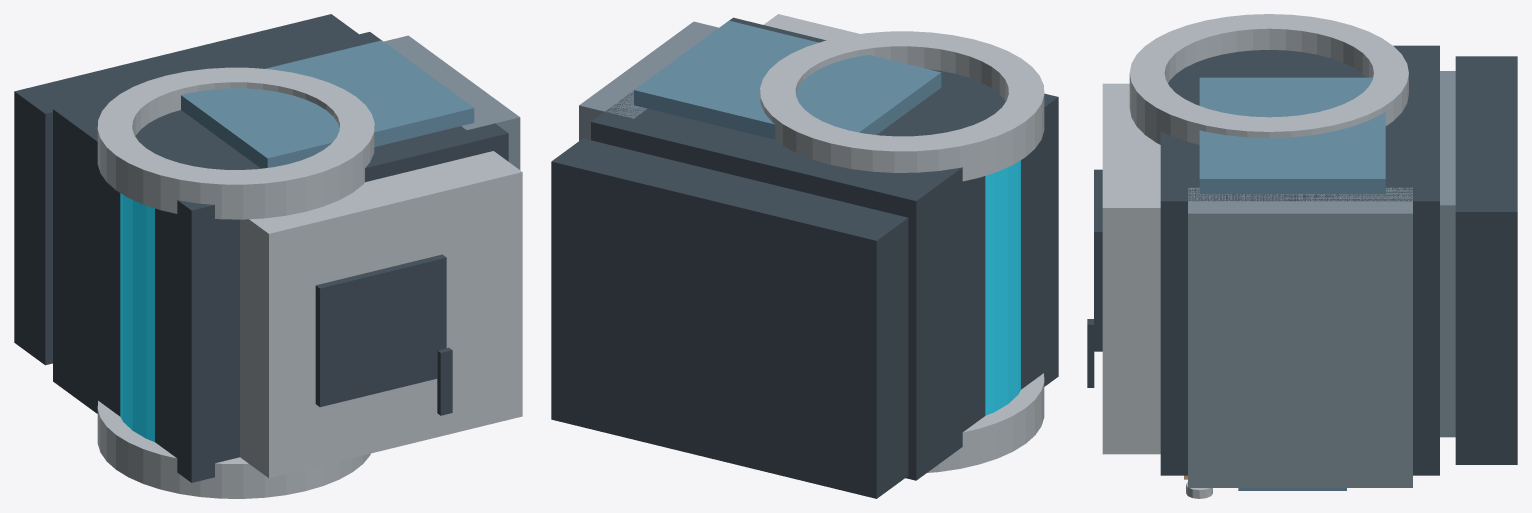
The model's file is shield1.glb.
3 views of the same model, side by side, from view 1: azimuth 30°, elevation 25°; view 2: azimuth 150°, elevation 25°; view 3: azimuth 270°, elevation 25° (orthographic). The views are drawn at different scales.
Visible parts, largest first — view 1: Top armored cover, Main generator chassis, Rear emitter ring, Compact mounting rail, Rear blue armor panel, Top dark vent, Front emitter ring, Shield core, Side protective cheek, Cooling slot; view 2: Compact mounting rail, Main generator chassis, Rear emitter ring, Rear blue armor panel, Shield core, Front emitter ring, Side protective cheek, Top armored cover; view 3: Side protective cheek, Main generator chassis, Compact mounting rail, Top armored cover, Rear emitter ring, Rear blue armor panel, Lower armored foot, Top dark vent, Cooling slot.
Part boxes in pixels (left/top/right/bottom): Top armored cover: left=240, top=151, right=522, bottom=478; Main generator chassis: left=53, top=32, right=508, bottom=482; Rear emitter ring: left=97, top=67, right=374, bottom=219; Compact mounting rail: left=14, top=14, right=358, bottom=365; Rear blue armor panel: left=181, top=40, right=474, bottom=168; Top dark vent: left=315, top=254, right=446, bottom=407; Front emitter ring: left=97, top=401, right=370, bottom=498; Shield core: left=120, top=193, right=154, bottom=441; Side protective cheek: left=384, top=35, right=520, bottom=169; Cooling slot: left=437, top=347, right=452, bottom=415; Compact mounting rail: left=551, top=138, right=908, bottom=498; Main generator chassis: left=591, top=17, right=1058, bottom=480; Rear emitter ring: left=760, top=31, right=1044, bottom=181; Rear blue armor panel: left=634, top=20, right=941, bottom=139; Shield core: left=985, top=160, right=1020, bottom=415; Front emitter ring: left=927, top=373, right=1044, bottom=472; Side protective cheek: left=579, top=21, right=718, bottom=140; Top armored cover: left=764, top=14, right=859, bottom=40; Side protective cheek: left=1188, top=187, right=1412, bottom=487; Main generator chassis: left=1160, top=45, right=1439, bottom=475; Compact mounting rail: left=1455, top=56, right=1517, bottom=464; Top armored cover: left=1102, top=83, right=1160, bottom=454; Rear emitter ring: left=1129, top=14, right=1408, bottom=144; Rear blue armor panel: left=1199, top=77, right=1385, bottom=193; Lower armored foot: left=1440, top=71, right=1455, bottom=437; Top dark vent: left=1094, top=169, right=1102, bottom=351; Cooling slot: left=1087, top=319, right=1094, bottom=387.
Size of the model in its own units: 1.09 by 0.9325 by 1.11.
